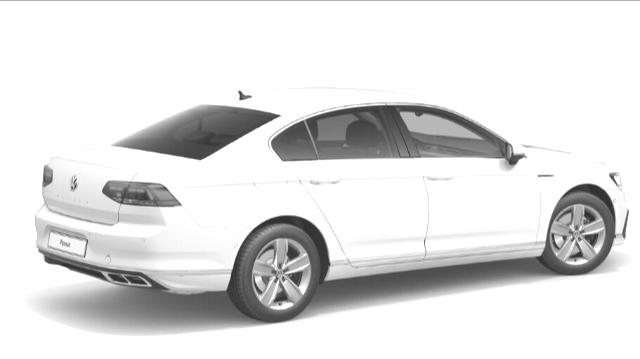sedan: (30, 76, 632, 326)
